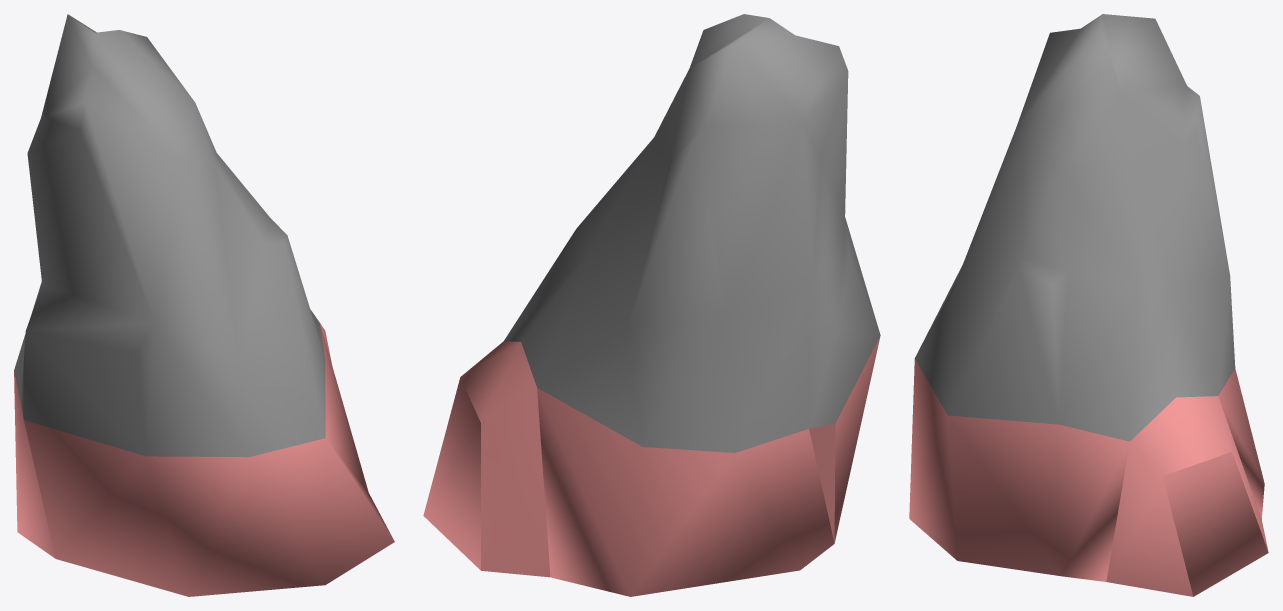
File: deco_oren_stone009.gltf
3 views of the same model, side by side, from view 1: azimuth 30°, elevation 25°; view 2: azimuth 150°, elevation 25°; view 3: azimuth 270°, elevation 25° (orthographic). The views are drawn at different scales.
Parts seen in each view (by area): view 1: deco_oren_stone009; view 2: deco_oren_stone009; view 3: deco_oren_stone009.
Part boxes in pixels (bbox=[...]): deco_oren_stone009: bbox=[14, 14, 394, 596]; deco_oren_stone009: bbox=[423, 14, 880, 596]; deco_oren_stone009: bbox=[909, 14, 1268, 596].
Size of the model in its own units: 0.8309 by 1.16 by 0.8227.
